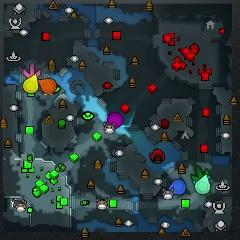p1: (168, 179, 187, 195)
p2: (195, 175, 210, 194)
p3: (108, 112, 124, 128)
p4: (23, 73, 39, 93)
p5: (38, 78, 57, 94)
x1: (23, 63, 41, 79)
x3: (193, 180, 195, 185)
x4: (192, 166, 209, 181)
